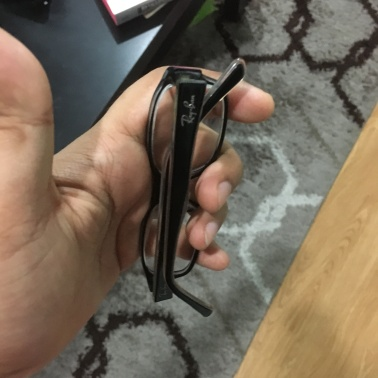glasses: (126, 60, 229, 321)
